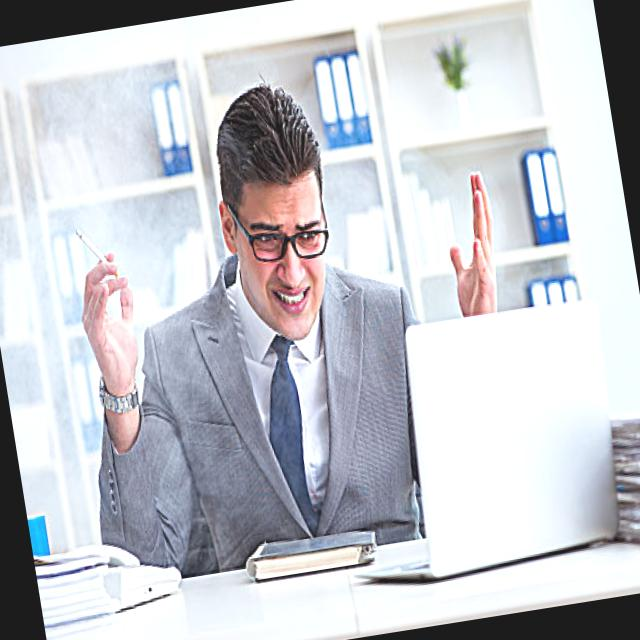cigarette: (70, 216, 112, 272)
